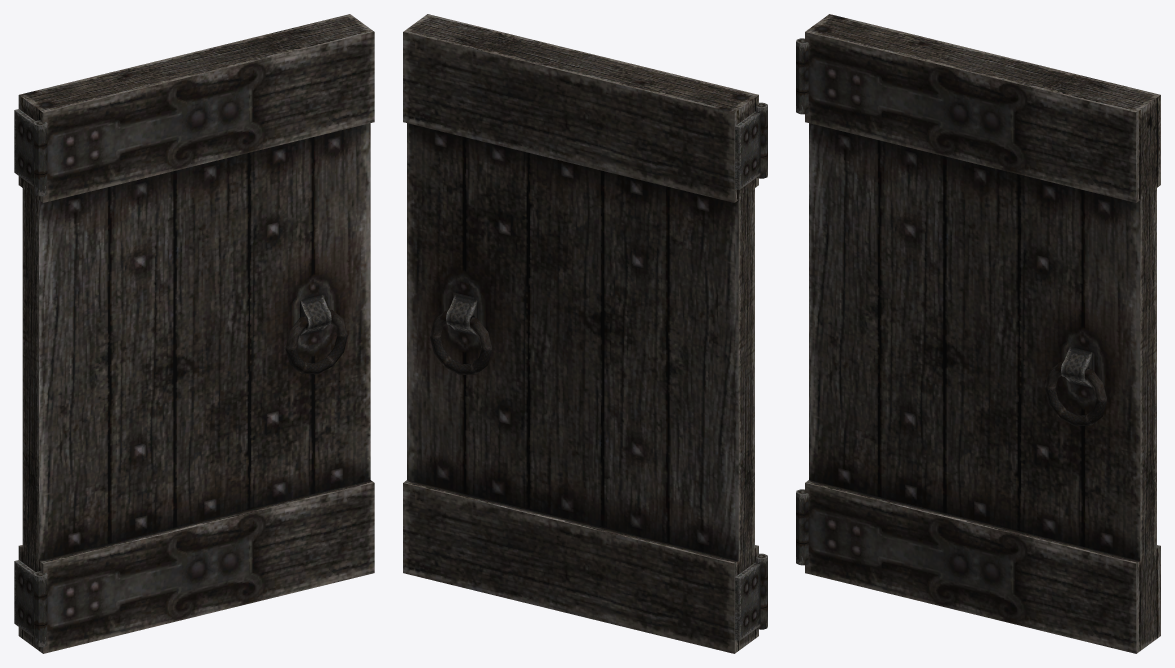
Rendered from castle.dae.
3 views of the same model, side by side, from view 1: azimuth 30°, elevation 25°; view 2: azimuth 150°, elevation 25°; view 3: azimuth 330°, elevation 25° (orthographic).
Parts seen in each view (by area): view 1: polySurface6, Scene_Root; view 2: polySurface6, Scene_Root; view 3: polySurface6, Scene_Root.
Boxes of the visible parts, x1,y1,x2,y2 form: polySurface6: [18, 14, 374, 653]; Scene_Root: [14, 109, 47, 647]; polySurface6: [403, 14, 758, 653]; Scene_Root: [735, 102, 767, 640]; polySurface6: [805, 14, 1160, 653]; Scene_Root: [796, 38, 808, 565].
Size of the model in its own units: 1.79 by 0.3161 by 2.73.
